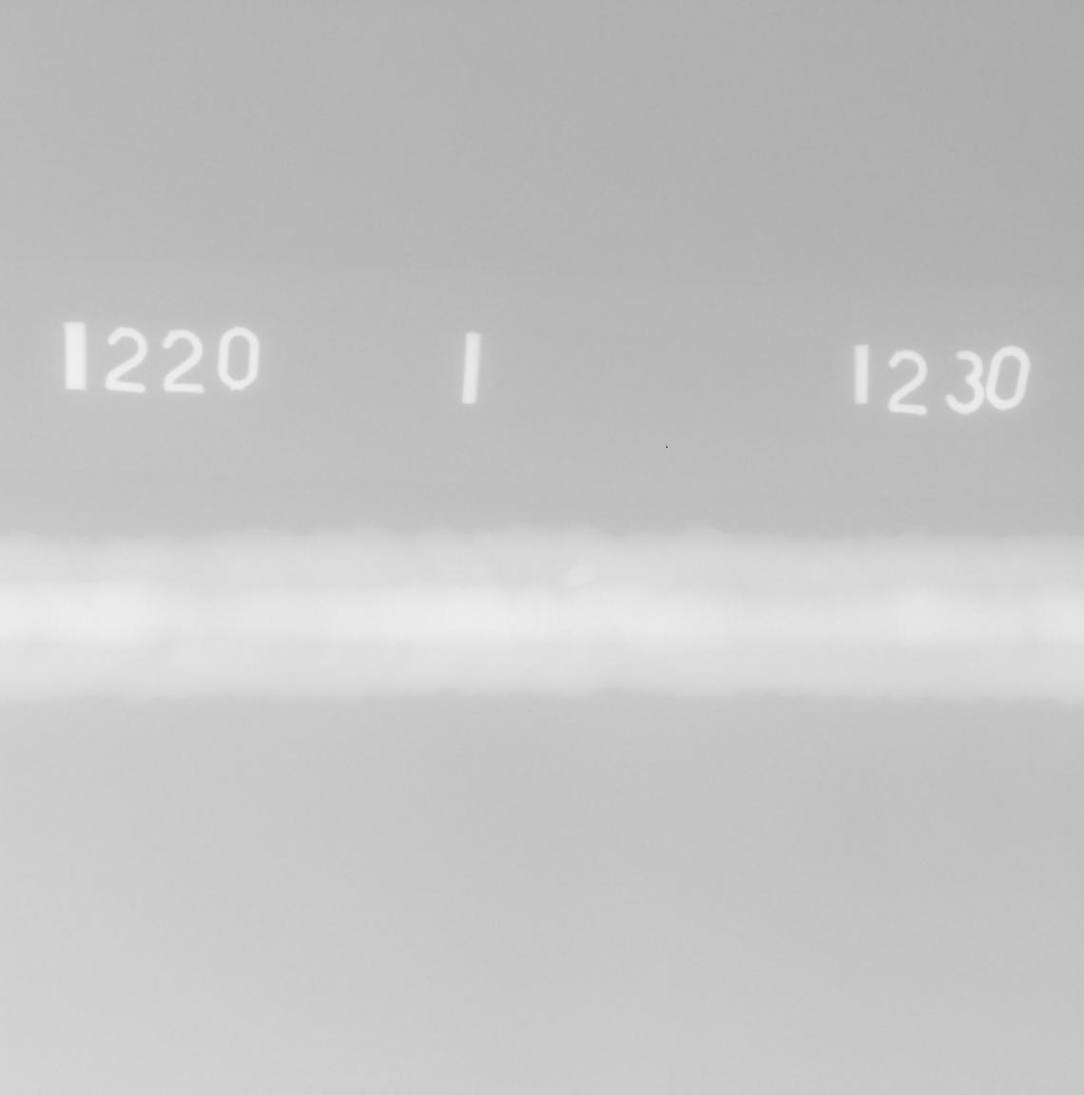Pore/Porosity: (565, 631, 573, 636)
